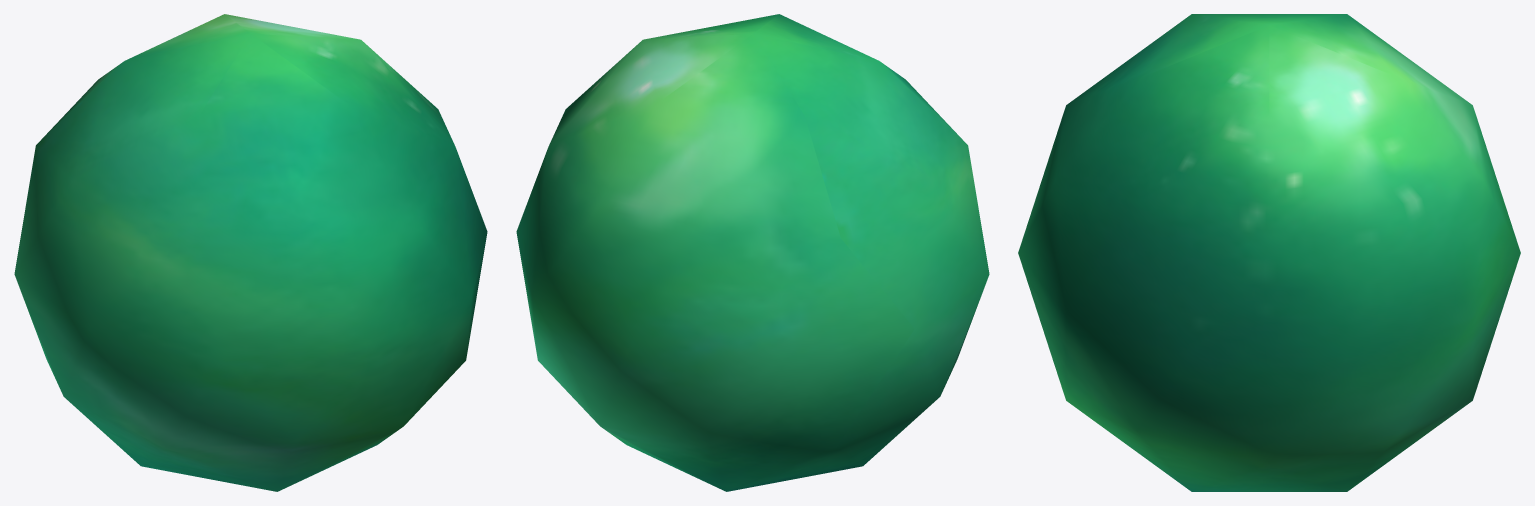
The model's file is xiaoqiu.FBX.
3 views of the same model, side by side, from view 1: azimuth 30°, elevation 25°; view 2: azimuth 150°, elevation 25°; view 3: azimuth 270°, elevation 25° (orthographic). The views are drawn at different scales.
Visible parts, largest first — view 1: mod_danyao; view 2: mod_danyao; view 3: mod_danyao.
Part boxes in pixels (box(x1,y1,x2,y2)): mod_danyao: box(14, 14, 487, 491); mod_danyao: box(516, 14, 989, 491); mod_danyao: box(1018, 14, 1520, 491).
Size of the model in its own units: 15.29 by 14.88 by 16.08.
